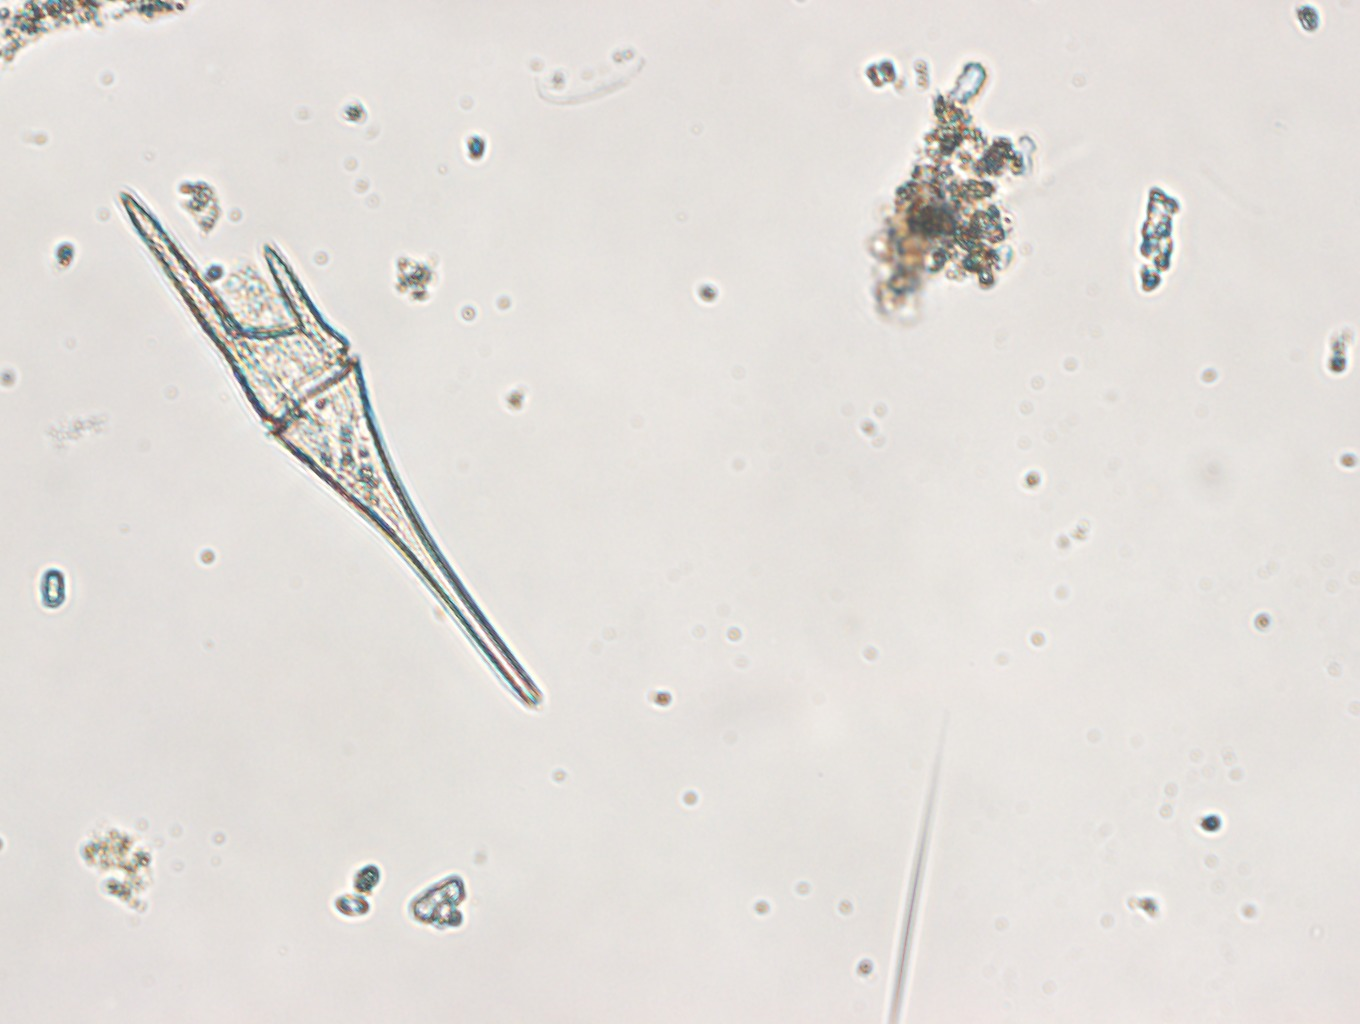ceratium furca: (118, 184, 543, 711)
